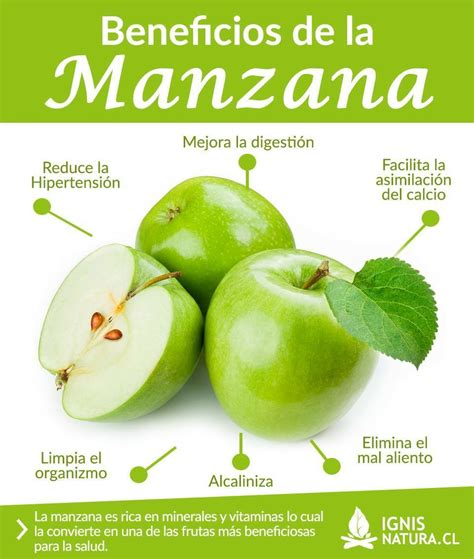apple: (204, 245, 384, 445), (130, 172, 301, 298)
